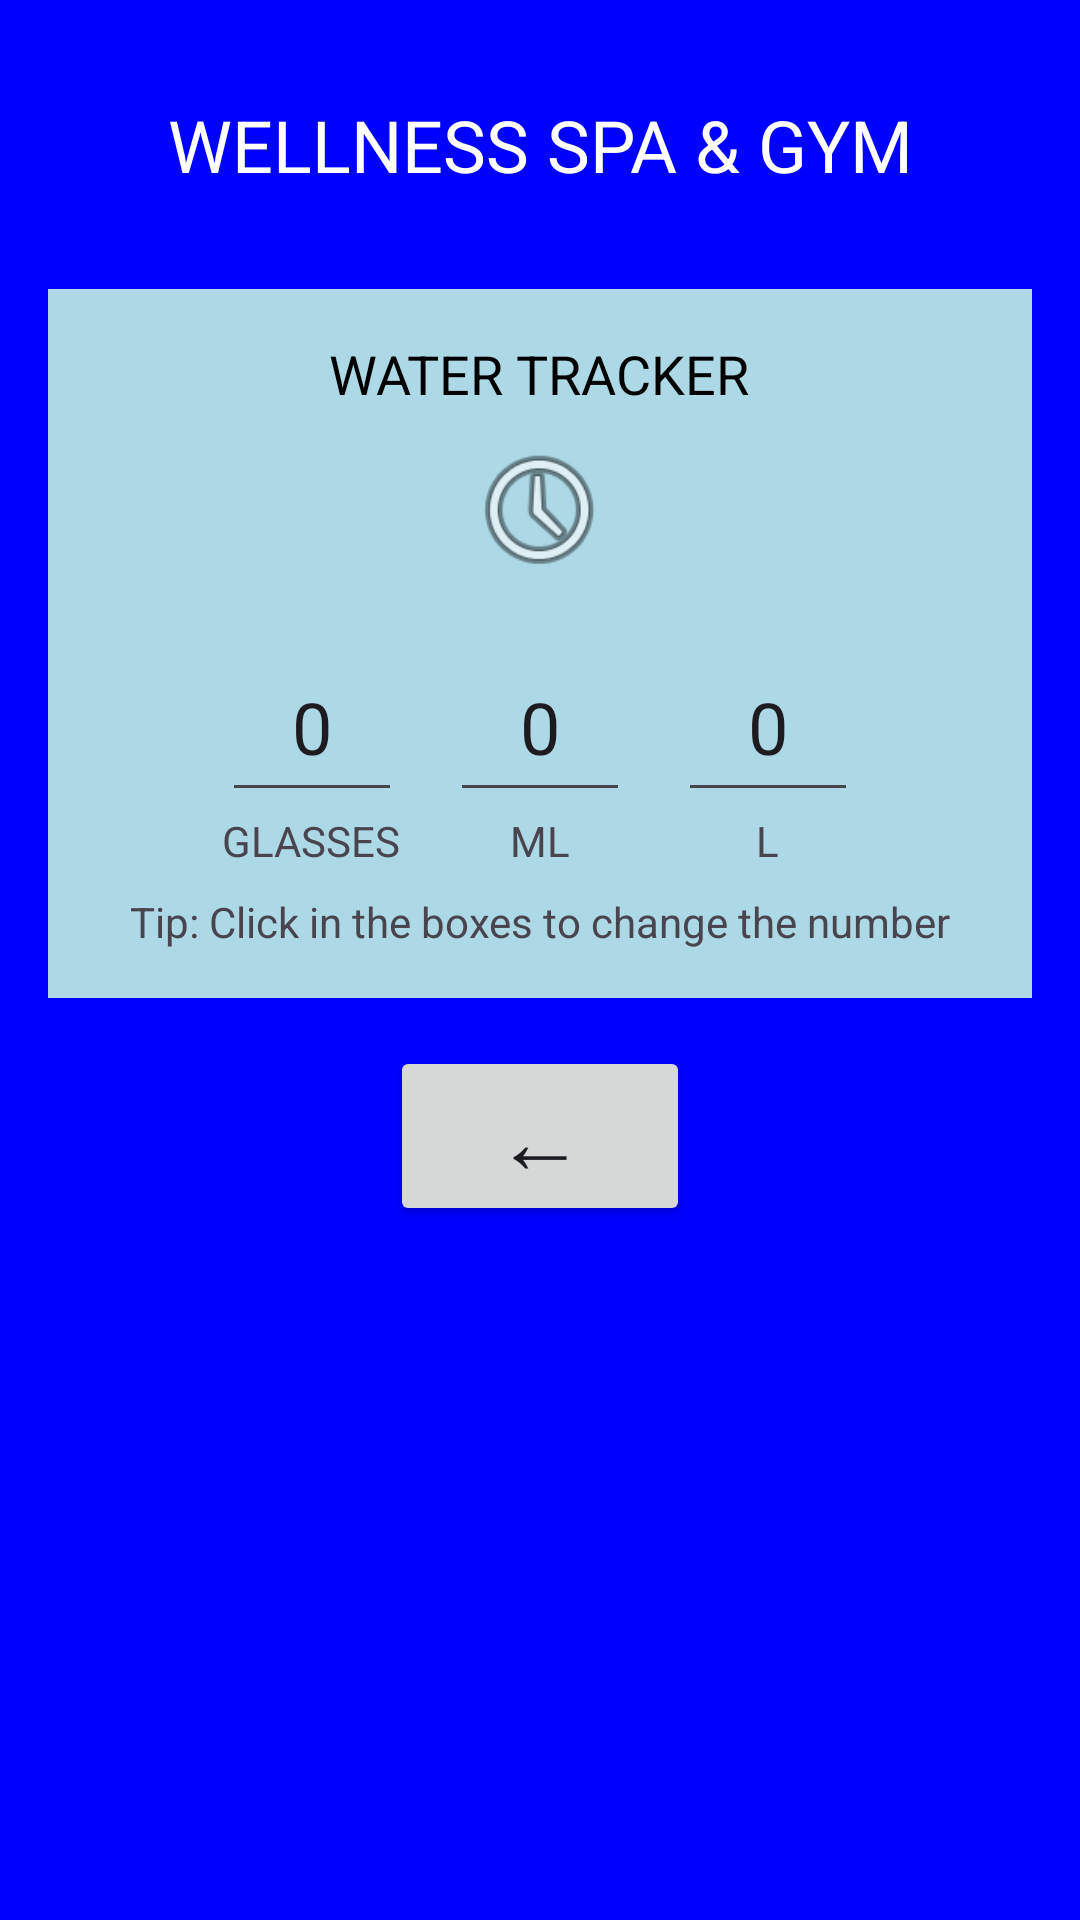

Icons on this 1080x1920 Android screen, each with its box as (x1, y1, x2, y2):
recent history: (485, 455, 594, 564)
